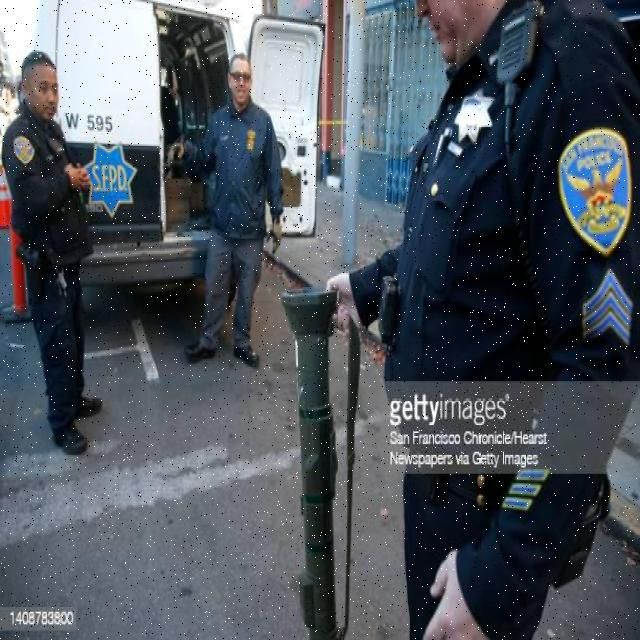bazooka: (278, 274, 367, 640)
